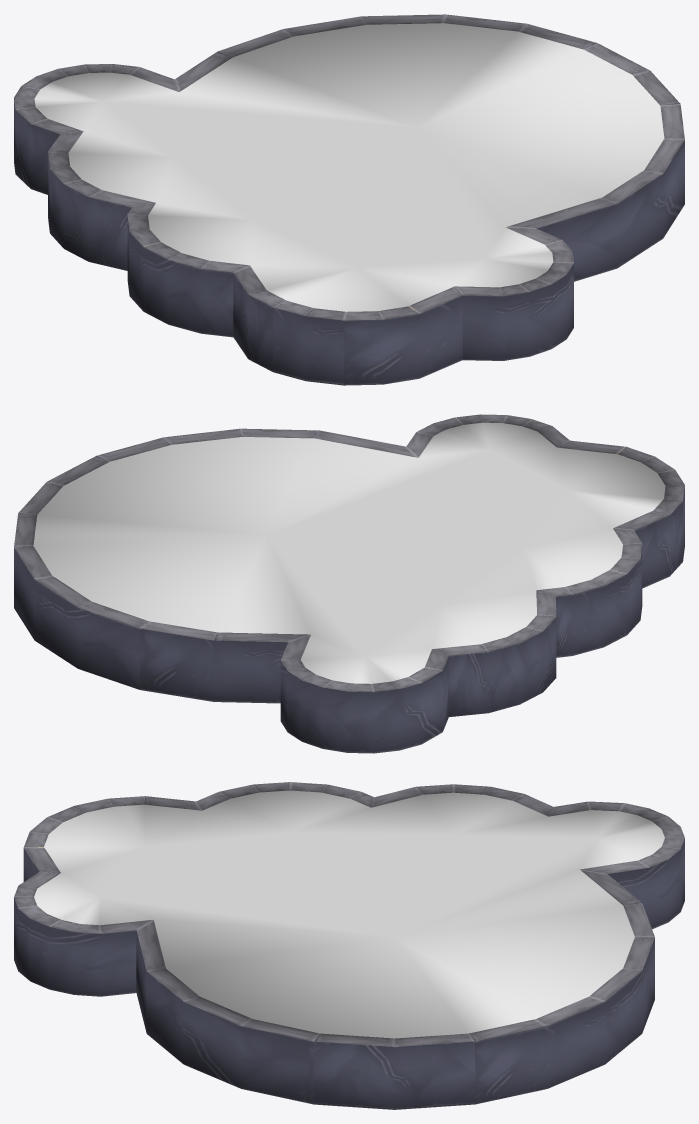
File: Scorpio_std_FloorEnd.fbx
The picture shows the model from 3 angles, top to bottom: view 1: azimuth 30°, elevation 25°; view 2: azimuth 150°, elevation 25°; view 3: azimuth 270°, elevation 25°; orthographic projection. The views are drawn at different scales.
Parts seen in each view (by area): view 1: Scorpio_std_FloorEnd; view 2: Scorpio_std_FloorEnd; view 3: Scorpio_std_FloorEnd.
Part boxes in pixels (x1,y1,x2,y2): Scorpio_std_FloorEnd: (14, 14, 684, 385); Scorpio_std_FloorEnd: (14, 414, 684, 753); Scorpio_std_FloorEnd: (14, 782, 684, 1109).
Size of the model in its own units: 3610 by 400 by 3864.
